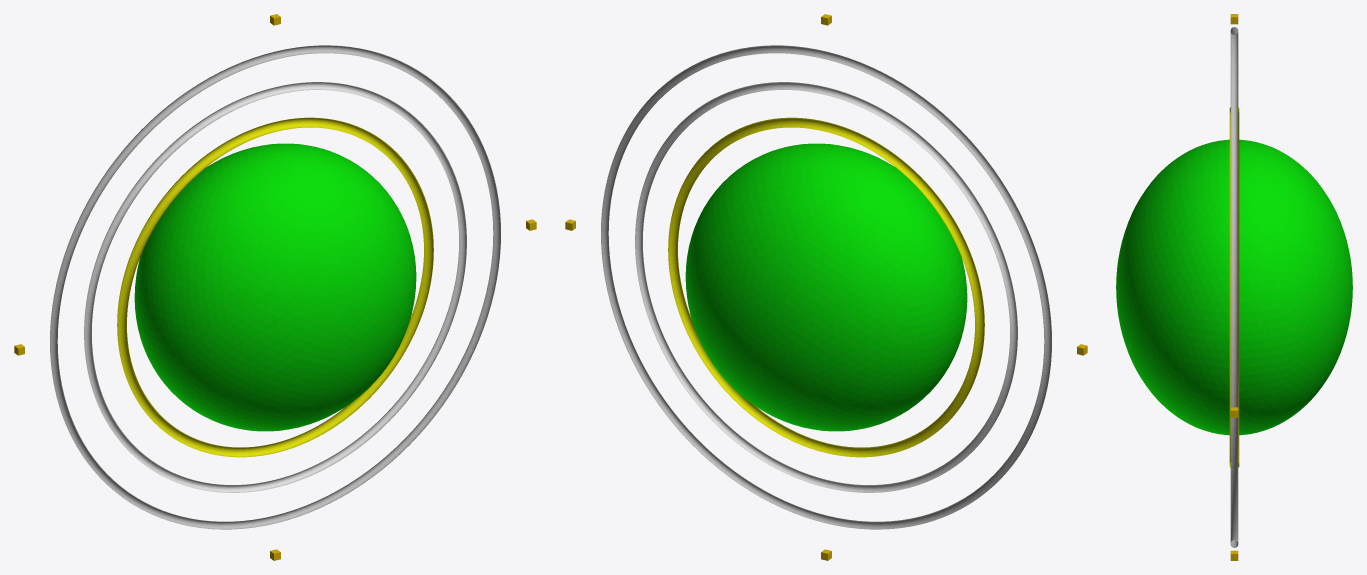
Rendered from universal_flip_breath_wobble_static.glb.
The picture shows the model from 3 angles, left to right: view 1: azimuth 30°, elevation 25°; view 2: azimuth 150°, elevation 25°; view 3: azimuth 270°, elevation 25°; orthographic projection.
Visible parts, largest first — view 1: world; view 2: world; view 3: world.
Part boxes in pixels (box(x1,y1,x2,y2)): world: box(14, 14, 536, 560); world: box(565, 14, 1087, 560); world: box(1116, 14, 1352, 560).
Bounding box in the file's own units: 6.08 × 6.08 × 2.4.
